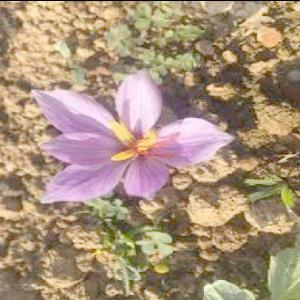Saffron: (35, 67, 235, 202)
